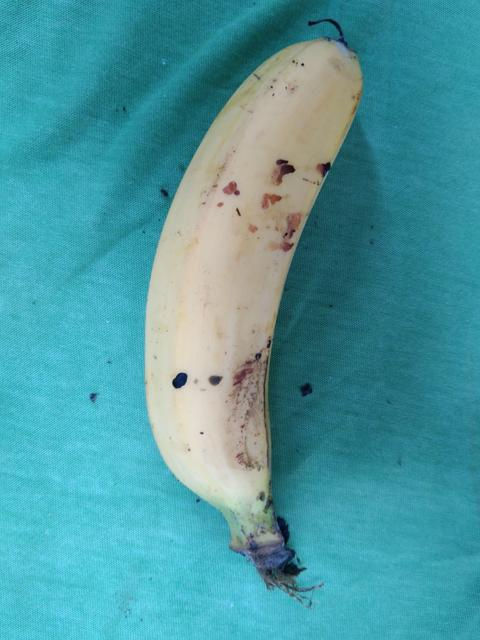ripe: (133, 24, 375, 519)
